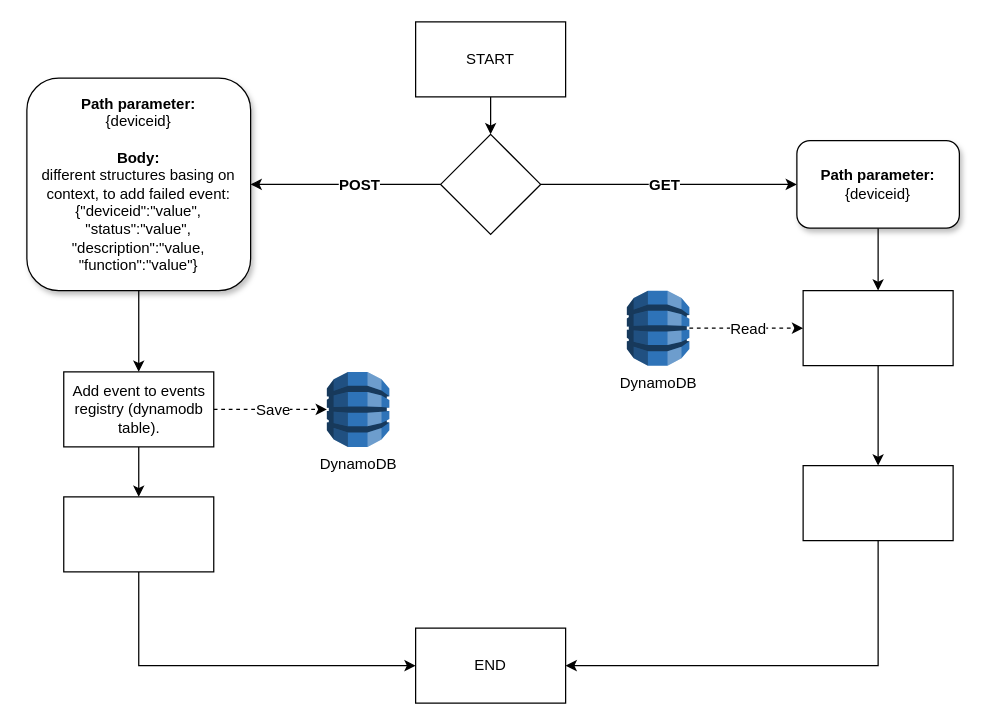
The diagram is 989 pixels wide and 725 high, and some of its shapes have lost their labels. Each missing label, with the centre of its shape:
"Get events for given device." goes at (x=877, y=327).
"POST or GET?" goes at (x=490, y=183).
"Return obtained events." goes at (x=877, y=502).
"Return status of inserting data to table." goes at (x=138, y=534).
